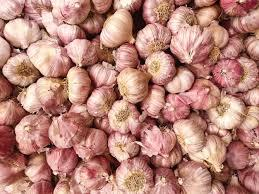garlic: (1, 1, 259, 194)
